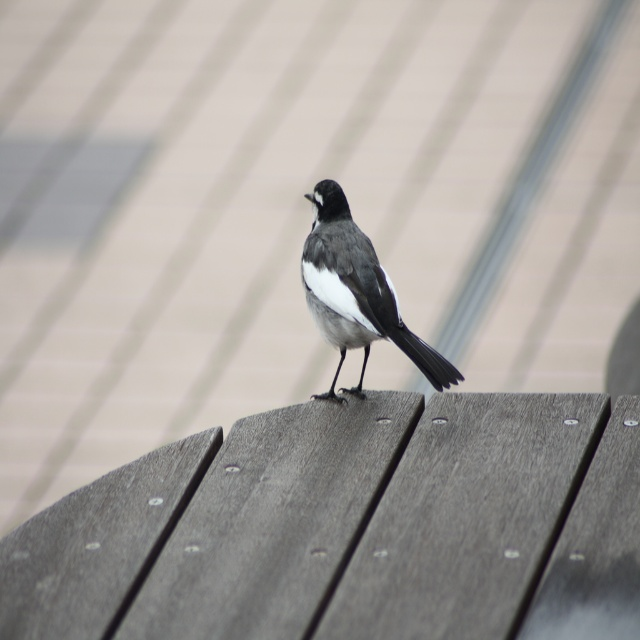Magpie: (290, 166, 464, 409)
